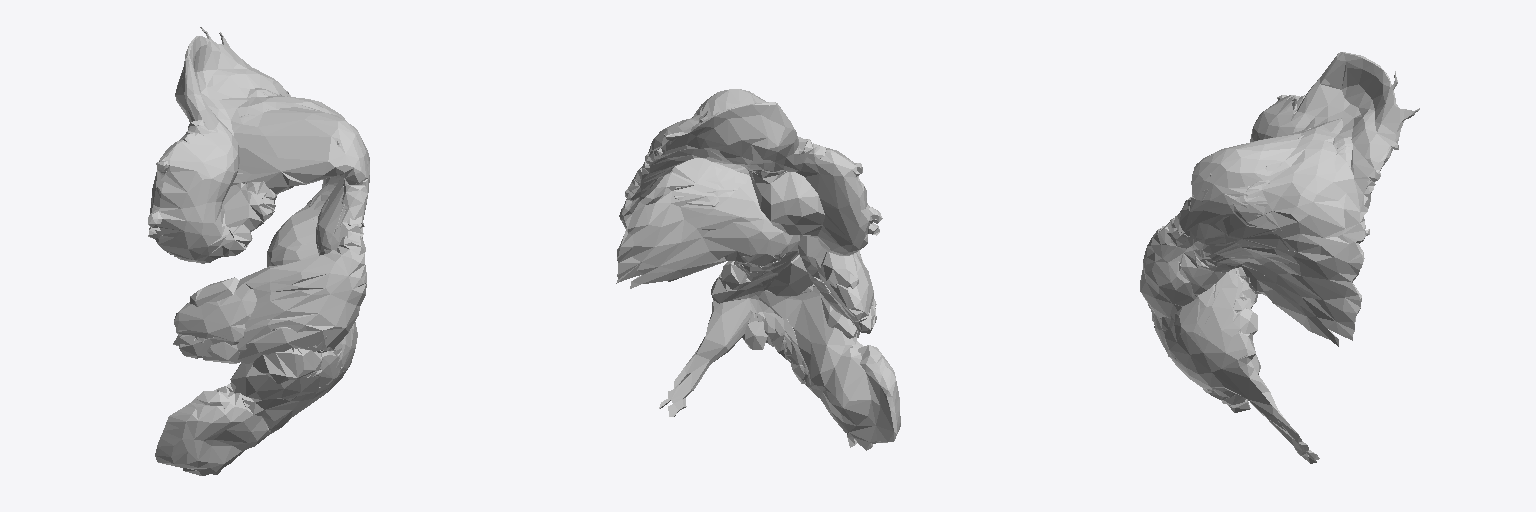
File: row4.obj
The picture shows the model from 3 angles: view 1: azimuth 30°, elevation 25°; view 2: azimuth 150°, elevation 25°; view 3: azimuth 270°, elevation 25°; orthographic projection.
Visible parts, largest first — view 1: row_4; view 2: row_4; view 3: row_4.
Boxes of the visible parts, <box> form: row_4: <box>148,27,369,475</box>; row_4: <box>616,89,900,450</box>; row_4: <box>1140,52,1419,463</box>.
Bounding box in the file's own units: 1.68 × 2.62 × 1.77.